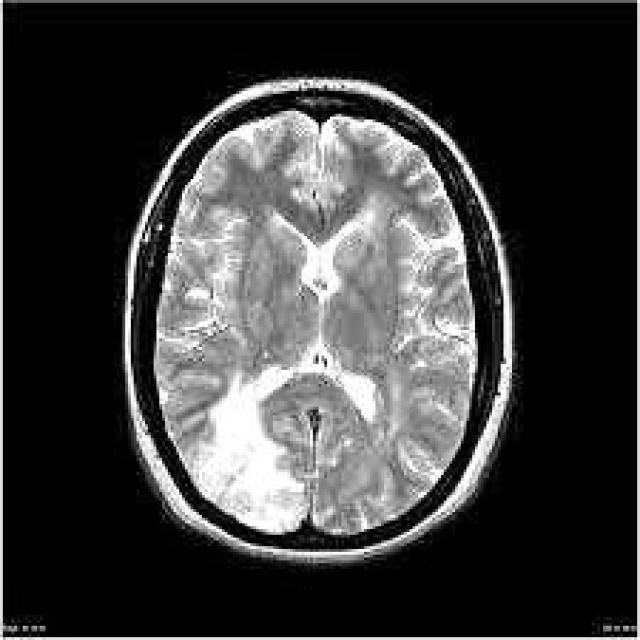notumor: (122, 80, 521, 572)
